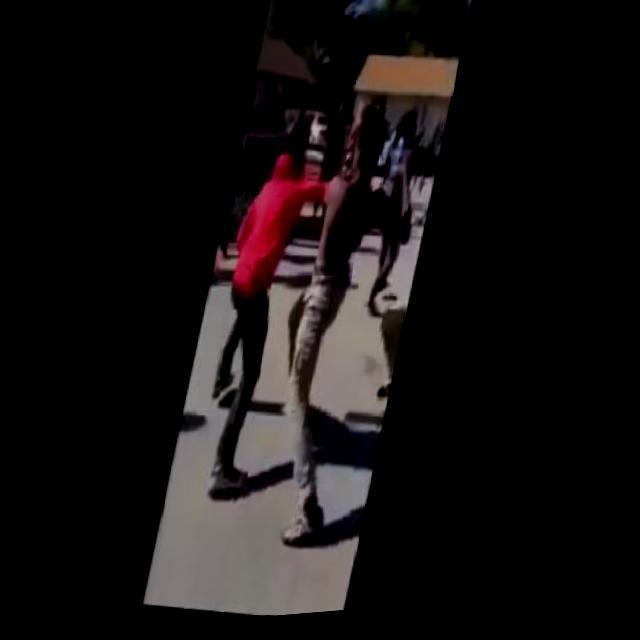fight: (194, 90, 410, 560)
